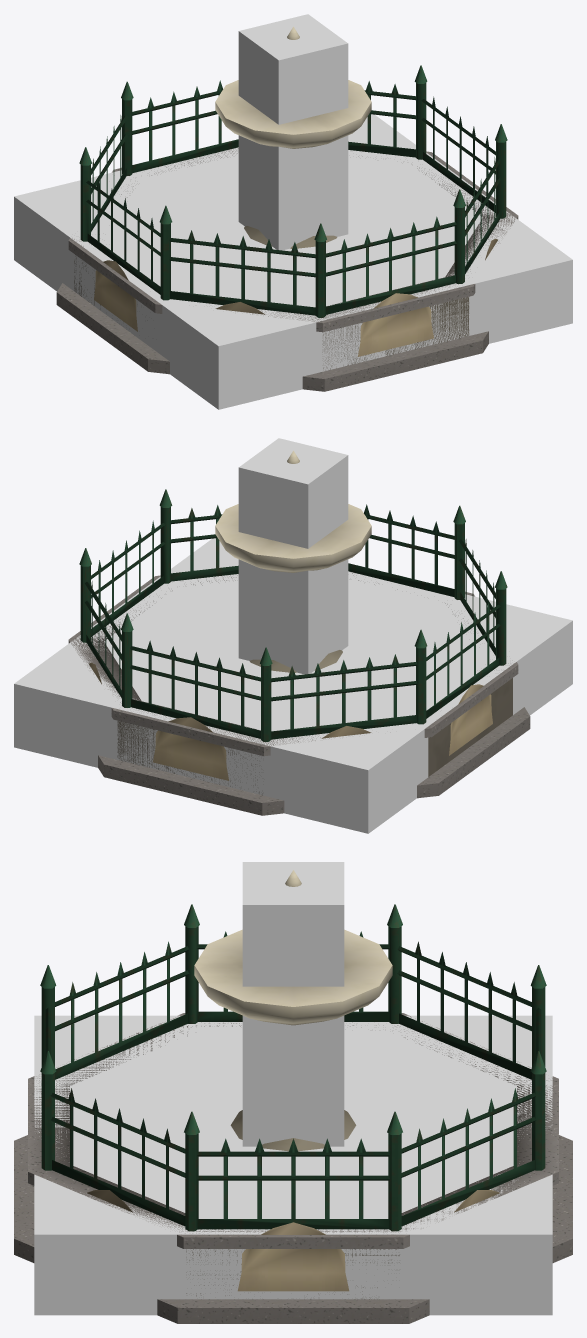
Rendered from gulzar_houz.glb.
3 renders of one model, top to bottom at view 1: azimuth 30°, elevation 25°; view 2: azimuth 150°, elevation 25°; view 3: azimuth 270°, elevation 25°, orthographic. The views are drawn at different scales.
Parts seen in each view (by area): view 1: COL_gulzar_houz, gulzar_houz_hard, gulzar_houz_soft; view 2: COL_gulzar_houz, gulzar_houz_hard, gulzar_houz_soft; view 3: COL_gulzar_houz, gulzar_houz_hard, gulzar_houz_soft.
Boxes of the visible parts, x1,y1,x2,y2 form: COL_gulzar_houz: (14,14,572,409); gulzar_houz_hard: (56,80,518,391); gulzar_houz_soft: (79,26,507,317); COL_gulzar_houz: (14,438,572,833); gulzar_houz_hard: (68,504,530,815); gulzar_houz_soft: (79,450,507,741); COL_gulzar_houz: (34,862,552,1315); gulzar_houz_hard: (14,931,572,1323); gulzar_houz_soft: (40,870,546,1231).
Bounding box in the file's own units: 22 × 14.6 × 22.
Materials: 6 (6 with a texture image).
